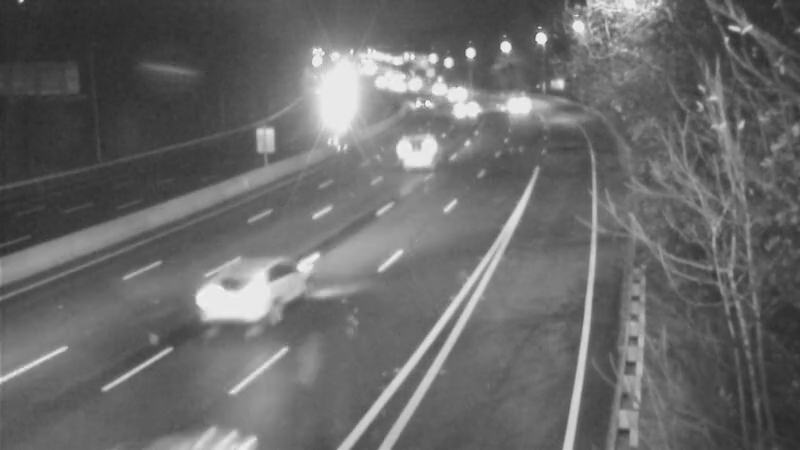vehicle: (194, 252, 304, 362), (139, 362, 249, 450), (414, 63, 464, 113), (427, 69, 477, 119), (397, 76, 447, 126), (483, 80, 533, 130), (434, 87, 484, 137), (389, 122, 439, 172)
